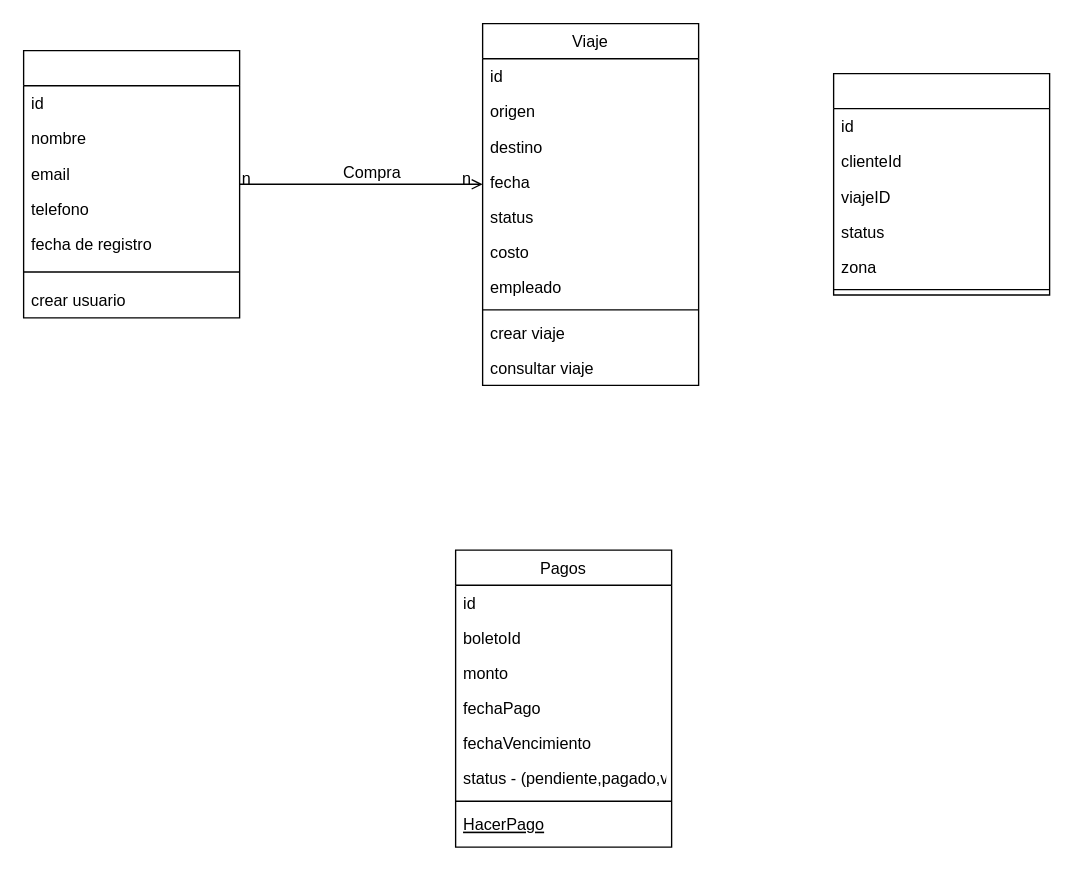
Image size: 1073x871. Some labels were removed from this diagram. The box of each missing label's shape, as (x1, y1, x2, y2) in pixels:
Boleto: (832, 72, 1050, 295)
Cliente: (22, 49, 240, 318)
